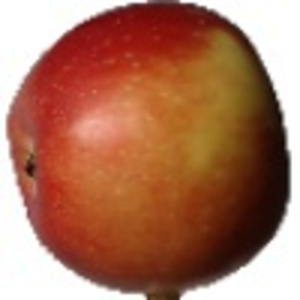maçã braeburn: (1, 2, 298, 291)
